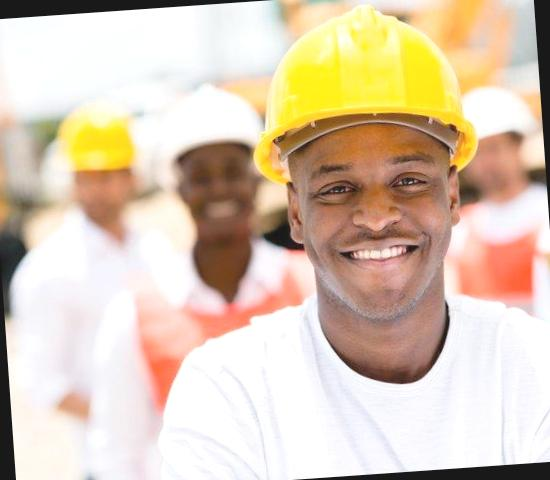helmet: (240, 0, 488, 191)
no_vest: (150, 277, 550, 480)
person: (168, 0, 550, 480)
